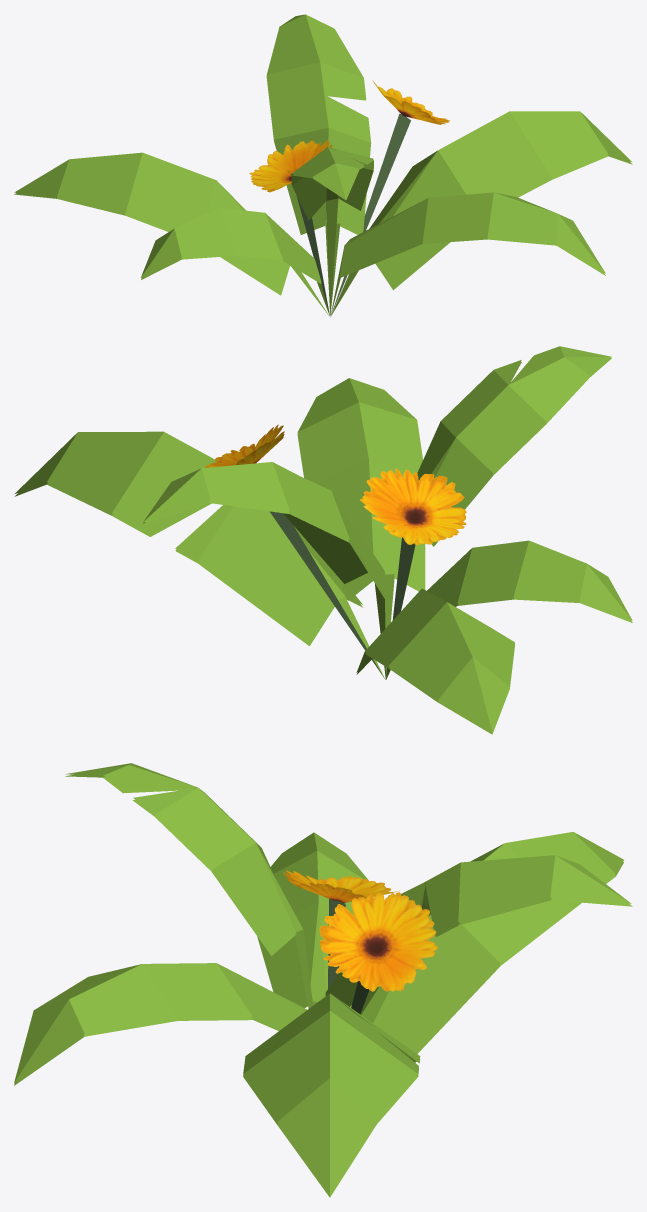
Rendered from model_polytope_plant04.fbx.
3 views of the same model, one above another, from view 1: azimuth 30°, elevation 25°; view 2: azimuth 150°, elevation 25°; view 3: azimuth 270°, elevation 25° (orthographic). The views are drawn at different scales.
Parts seen in each view (by area): view 1: model_polytope_plant04, model_polytope_plant04_alpha; view 2: model_polytope_plant04, model_polytope_plant04_alpha; view 3: model_polytope_plant04, model_polytope_plant04_alpha.
Boxes of the visible parts, bbox=[...] form: model_polytope_plant04: bbox=[14, 14, 632, 317]; model_polytope_plant04_alpha: bbox=[249, 80, 449, 192]; model_polytope_plant04: bbox=[14, 346, 632, 734]; model_polytope_plant04_alpha: bbox=[205, 424, 466, 545]; model_polytope_plant04: bbox=[14, 763, 632, 1197]; model_polytope_plant04_alpha: bbox=[283, 870, 437, 991].
Bounding box in the file's own units: 74.15 × 31.83 × 60.36.
